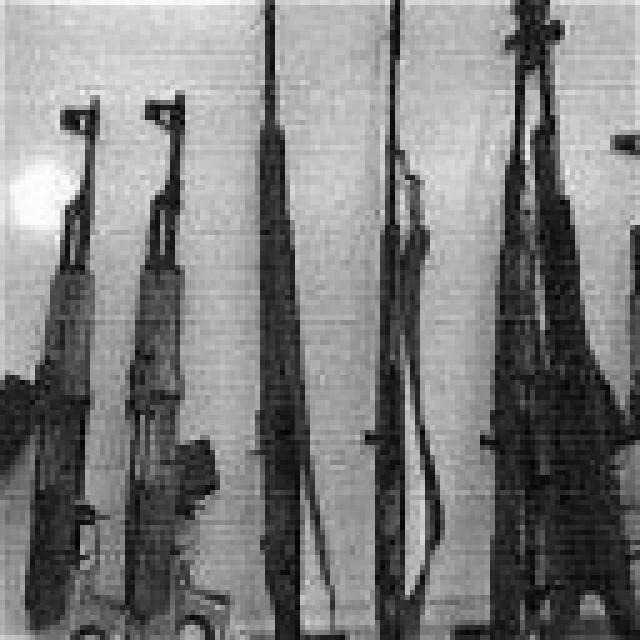Rifle: (0, 51, 136, 640), (520, 0, 640, 640), (244, 0, 356, 640), (119, 77, 238, 640), (355, 0, 458, 640), (484, 22, 557, 640)
